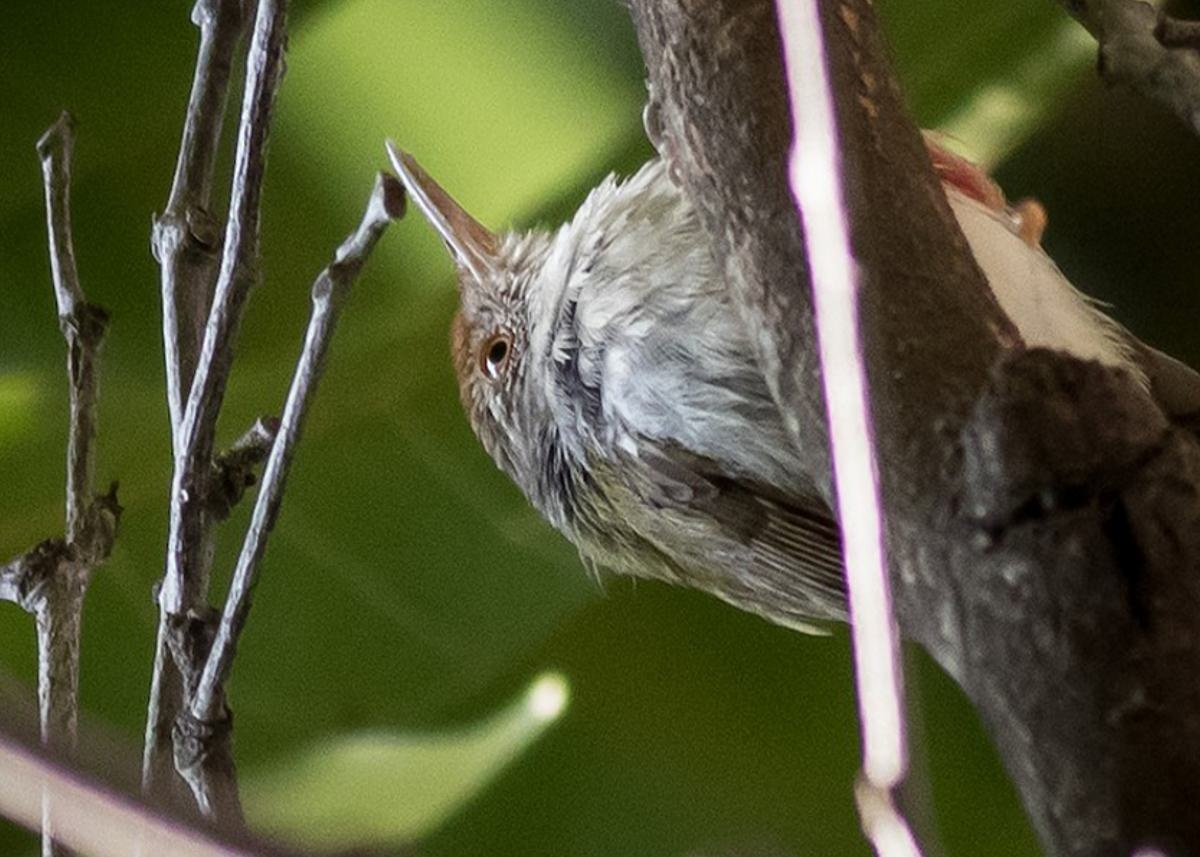tailorbird: (386, 94, 1083, 701)
